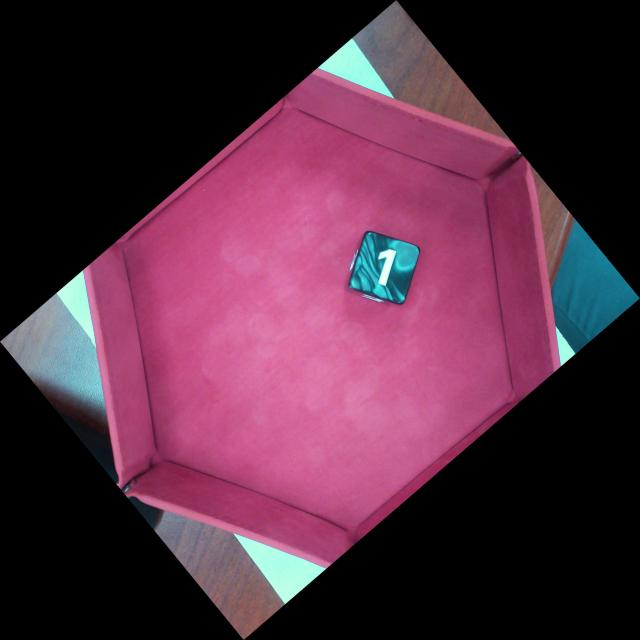dice: (348, 233, 419, 305)
